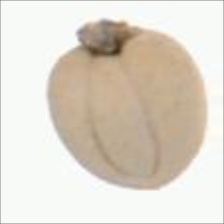L5: (85, 52, 165, 179), (71, 18, 145, 58)
L6: (44, 19, 208, 194)
